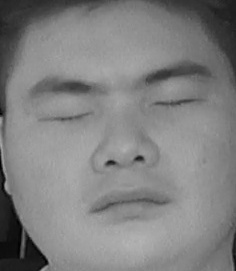blink: (40, 100, 93, 137), (152, 82, 199, 122)
mouth: (89, 176, 172, 225)
